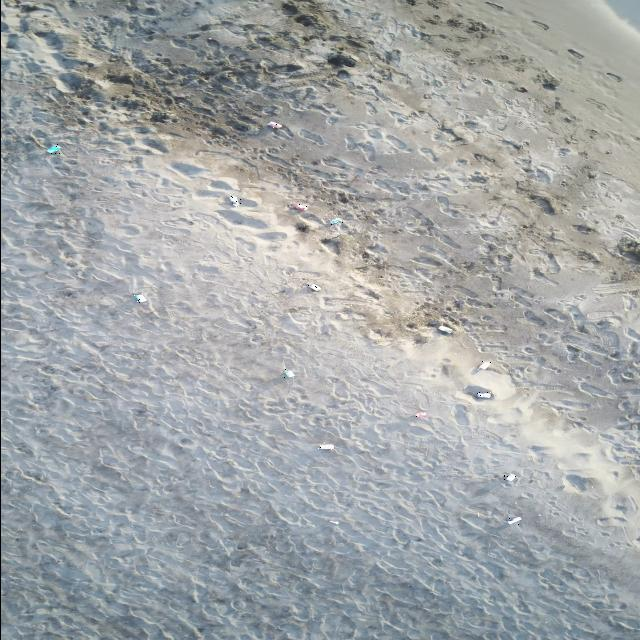Garbage: (295, 220, 310, 232), (289, 203, 307, 211), (476, 360, 491, 369), (48, 143, 60, 154), (134, 292, 145, 303), (228, 195, 239, 206), (437, 324, 452, 332), (328, 216, 342, 224), (508, 515, 520, 524), (307, 283, 320, 291), (267, 120, 280, 128), (504, 473, 515, 482), (281, 368, 293, 376), (477, 391, 492, 397), (319, 444, 333, 448), (416, 412, 427, 417), (328, 520, 337, 524)
